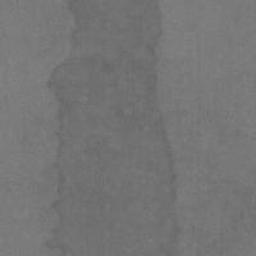Water spot: (41, 0, 179, 255)
